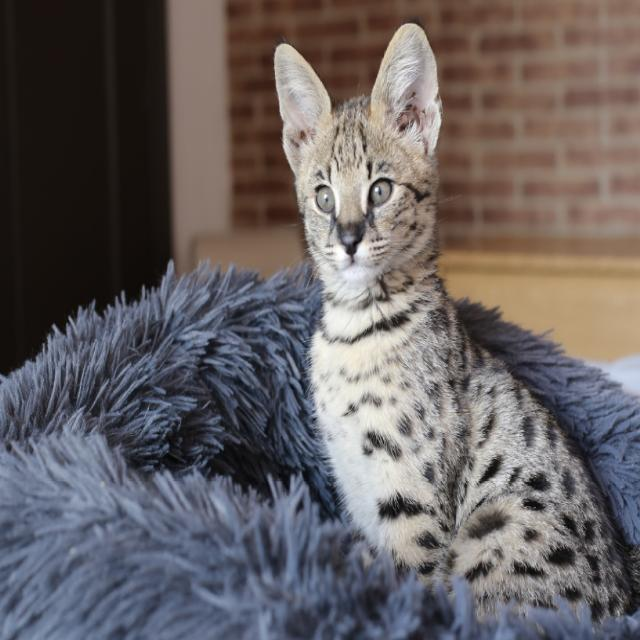Savannah: (270, 17, 640, 637)
